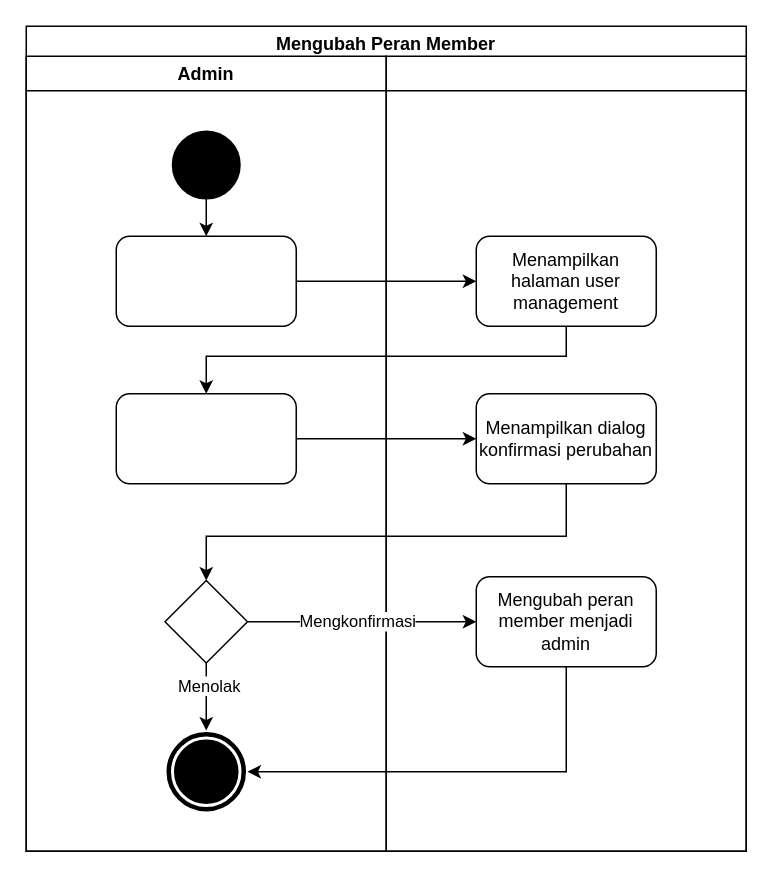
This 773x878 diagram has some shape labels left out. The box of each missing label's shape, as (x1, y1, x2, y2) in pixels:
Membuka halaman user management: (115, 235, 296, 326)
Memilih fitur set as admin pada member yang diinginkan: (115, 392, 296, 484)
Sistem: (385, 55, 746, 851)
